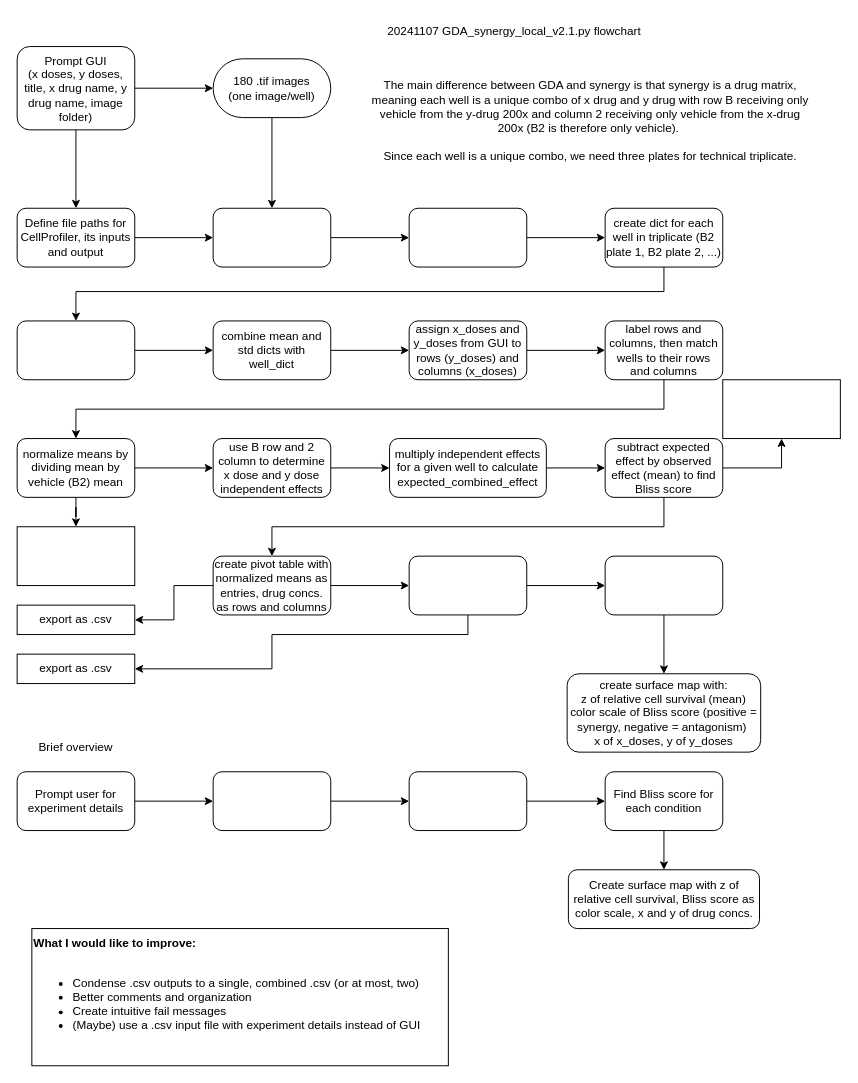
This 858x1083 diagram has some shape labels left out. Here are the shapes that lost their labels. From the top down, the centre of each, then its label:
the point at 271,237: subprocess.run CellProfiler
the point at 467,237: load output (cp_csv) into DataFrame (df)
the point at 75,350: calculate means and st. dev. for each well in triplicate
the point at 781,409: Create DataFrame with drug concs. and Bliss scores. Export as .csv
the point at 75,556: annotate stats and experiment info, put into DataFrame (df2), export as .csv
the point at 467,585: create pivot table with Bliss score as entries, drug concs. as rows and columns
the point at 663,585: replace zero values with small positive numbers (for log scale on graph)
the point at 271,801: Use CellProfiler to count nuclei in selected image folder
the point at 467,801: Organize and run stats on the data by condition
